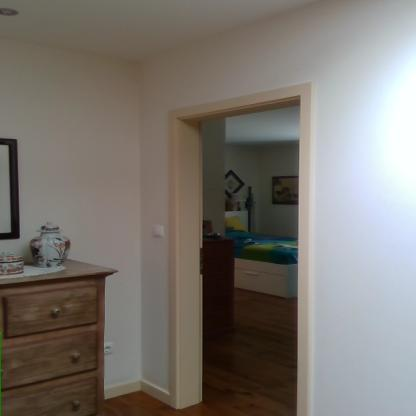open: (150, 77, 322, 416)
